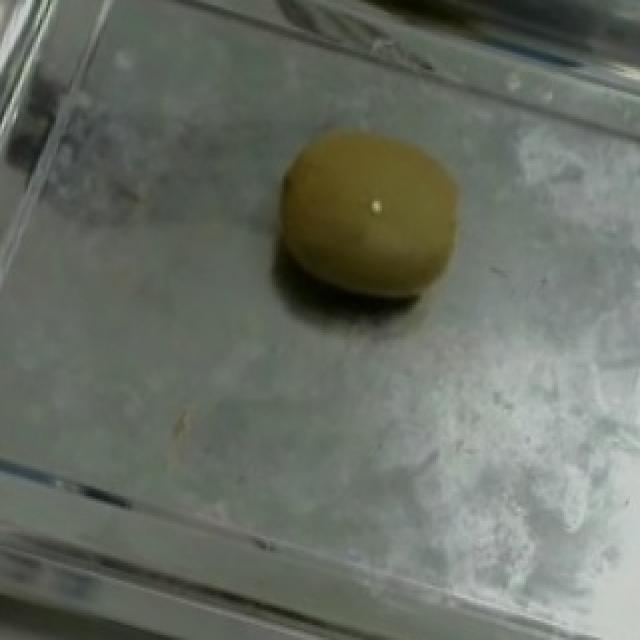Fruit: (238, 95, 502, 348)
